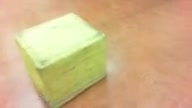cube: (14, 12, 107, 108)
